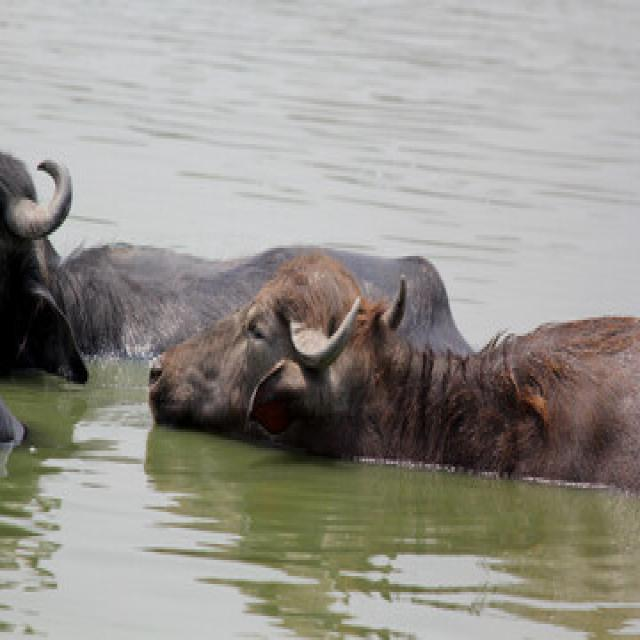Buffalo: (144, 248, 640, 485)
